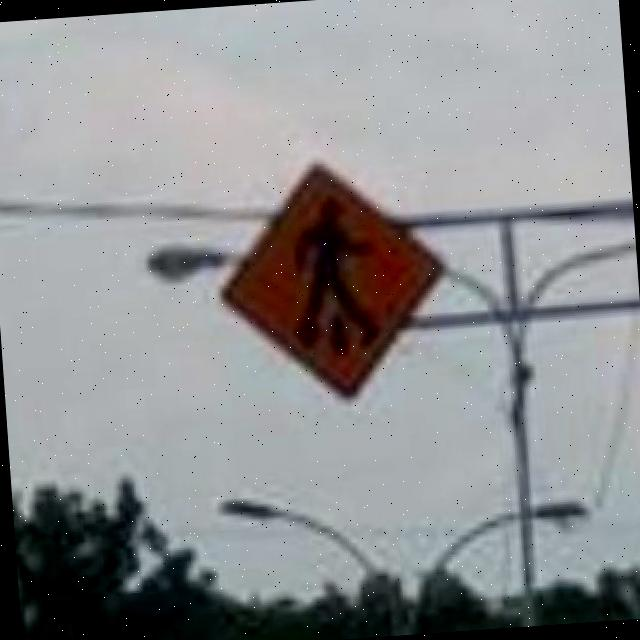Przejscie dla pieszych: (221, 161, 443, 403)
